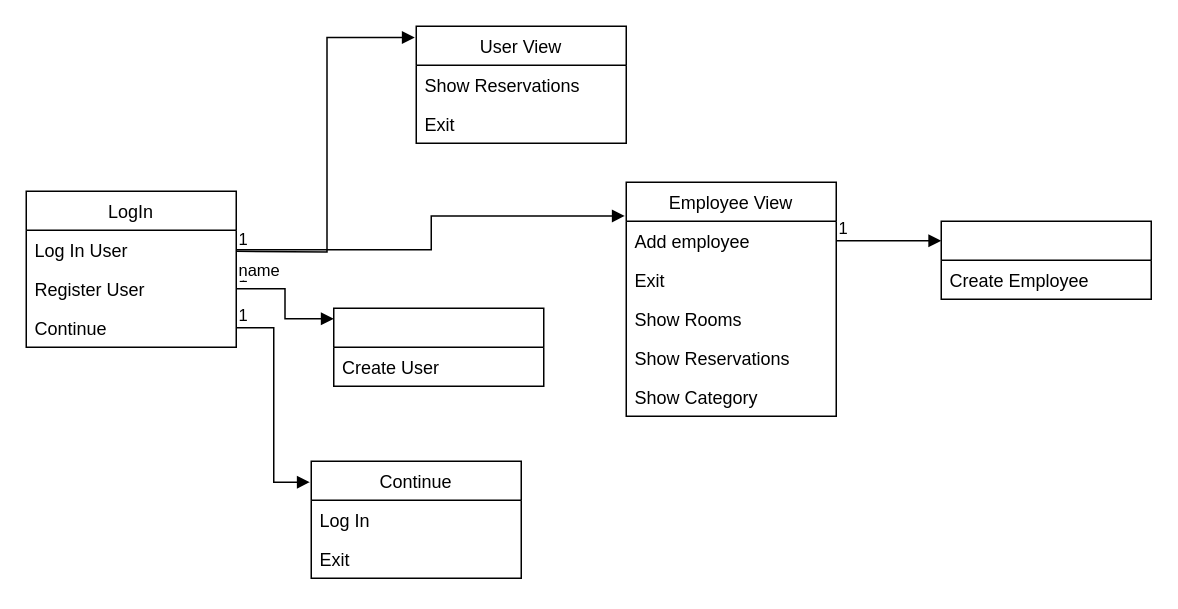
This 1178x609 diagram has some shape labels left out. Here are the shapes that lost their labels. From the top down, the box of each, then its label:
(940, 220, 1151, 299): Register Employee
(332, 307, 544, 386): Register
